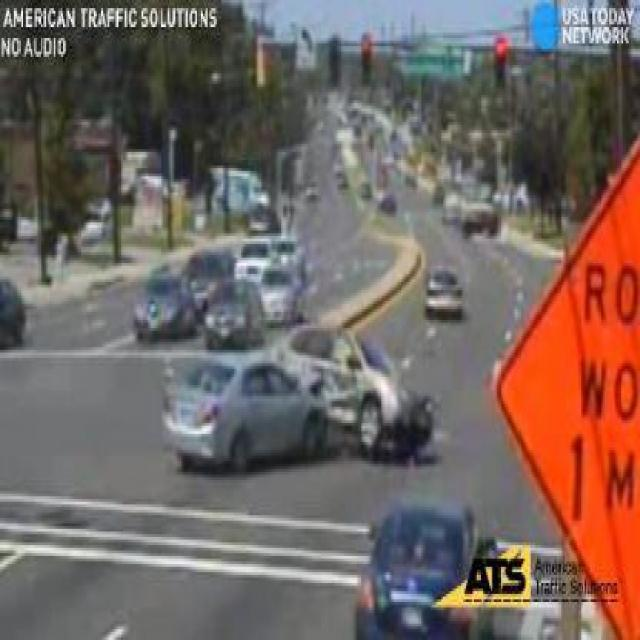accident: (137, 317, 440, 464)
